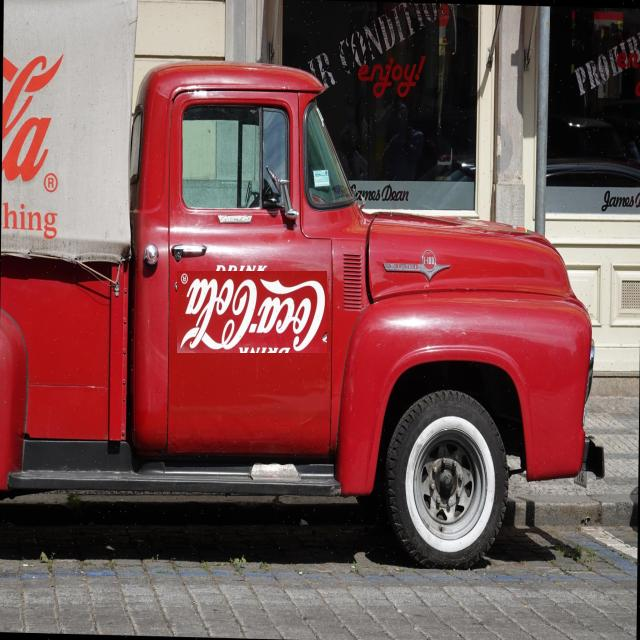coca-cola: (177, 271, 327, 353)
